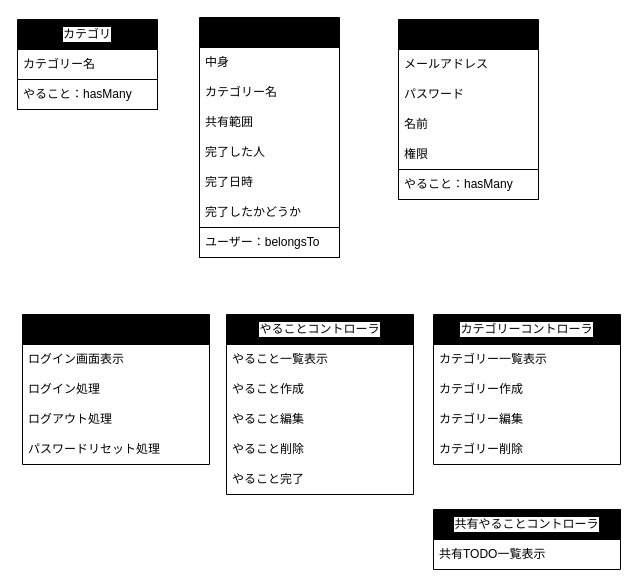
Image size: 638x587. Some labels were removed from this diagram. The box of each missing label's shape, as (x1, y1, x2, y2) in pixels:
やること: (198, 16, 340, 258)
ユーザー: (398, 18, 538, 200)
認証コントローラ: (22, 314, 210, 464)
